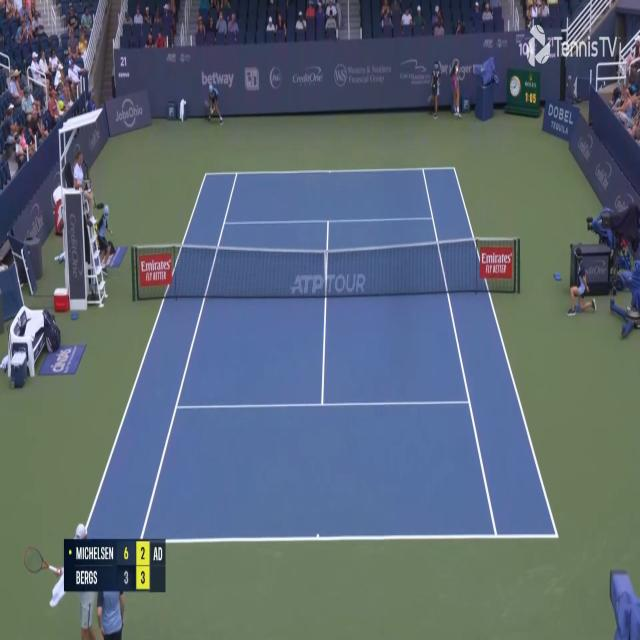tennis-player: (23, 516, 99, 640)
